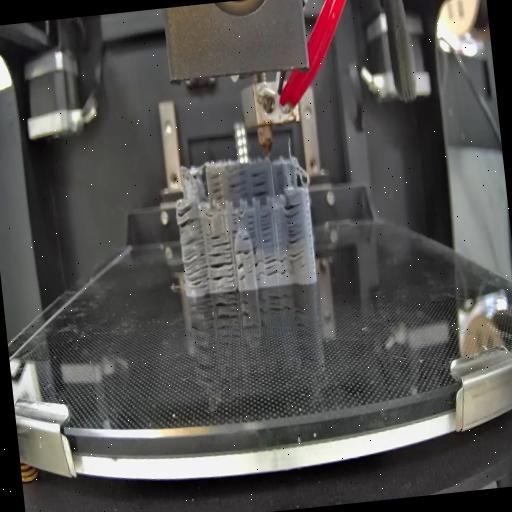cracks: (179, 230, 210, 288), (282, 198, 308, 264), (210, 250, 236, 290), (254, 258, 290, 282), (228, 167, 250, 199), (176, 200, 200, 228), (251, 168, 271, 198), (208, 170, 226, 202), (210, 229, 232, 250), (260, 212, 273, 244), (228, 212, 242, 236), (245, 212, 257, 238), (236, 244, 258, 258), (238, 261, 246, 285), (241, 234, 248, 241)
